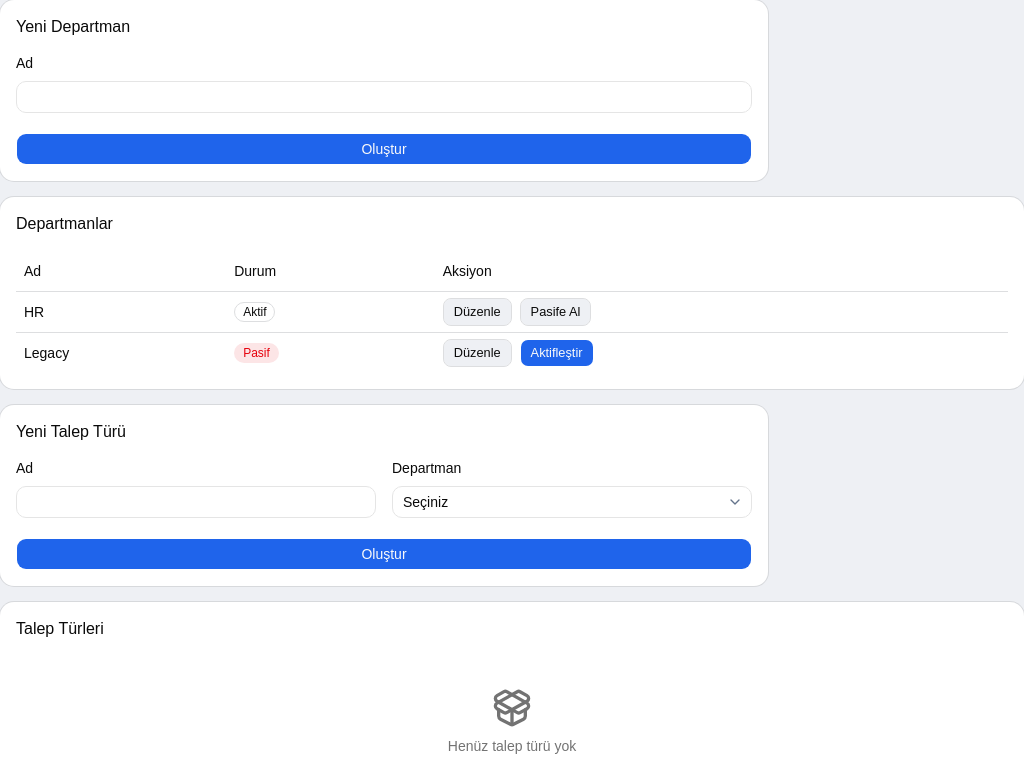
Test: AdminCatalog page › creates a request type via the form and shows it in the table after refetch
Check: the cell "HR" is shown, box [16,291,226,332]
Type "Yeni Tür" into the field labelled "Ad" below "Yeni Talep Türü" at (196, 502), box [16,486,376,518]
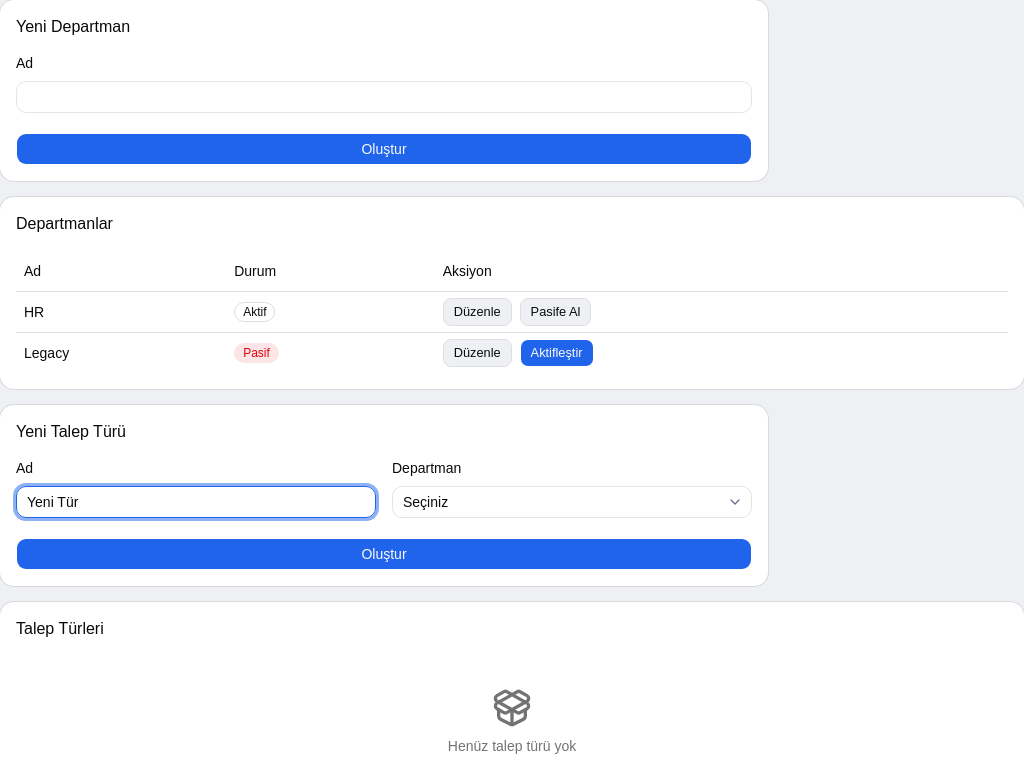
Select "HR" in the dropdown labelled "Departman" at (572, 502), box [392,486,752,518]
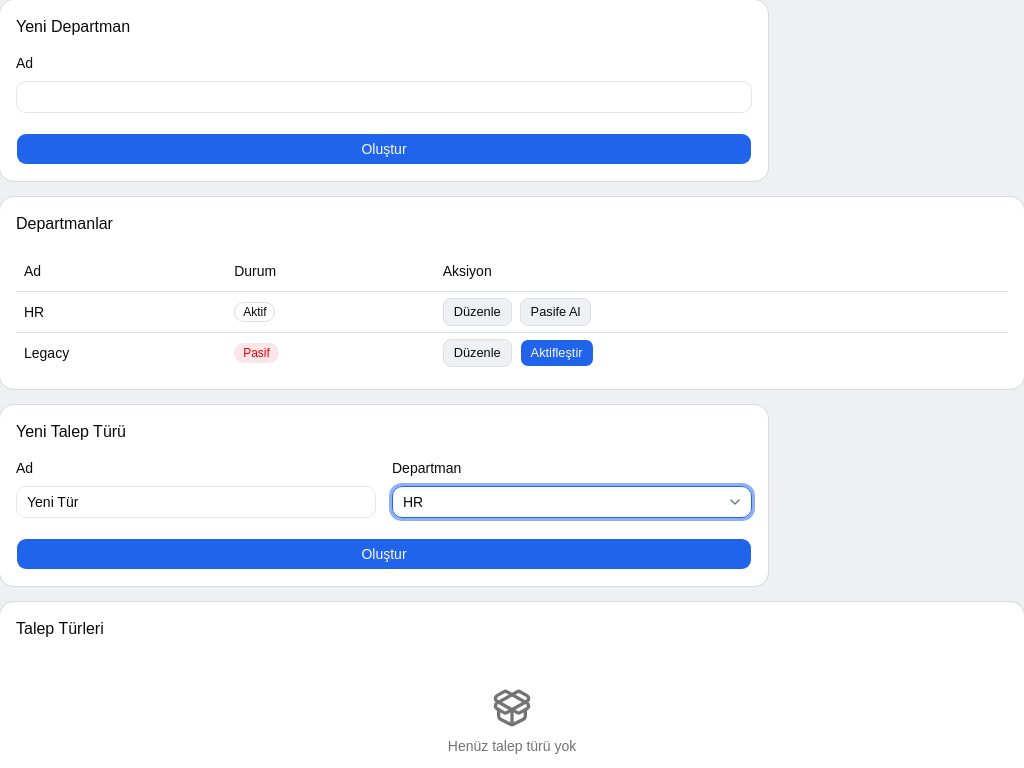
Click the button "Oluştur" below "Yeni Talep Türü" at (384, 554), box [16,538,752,570]
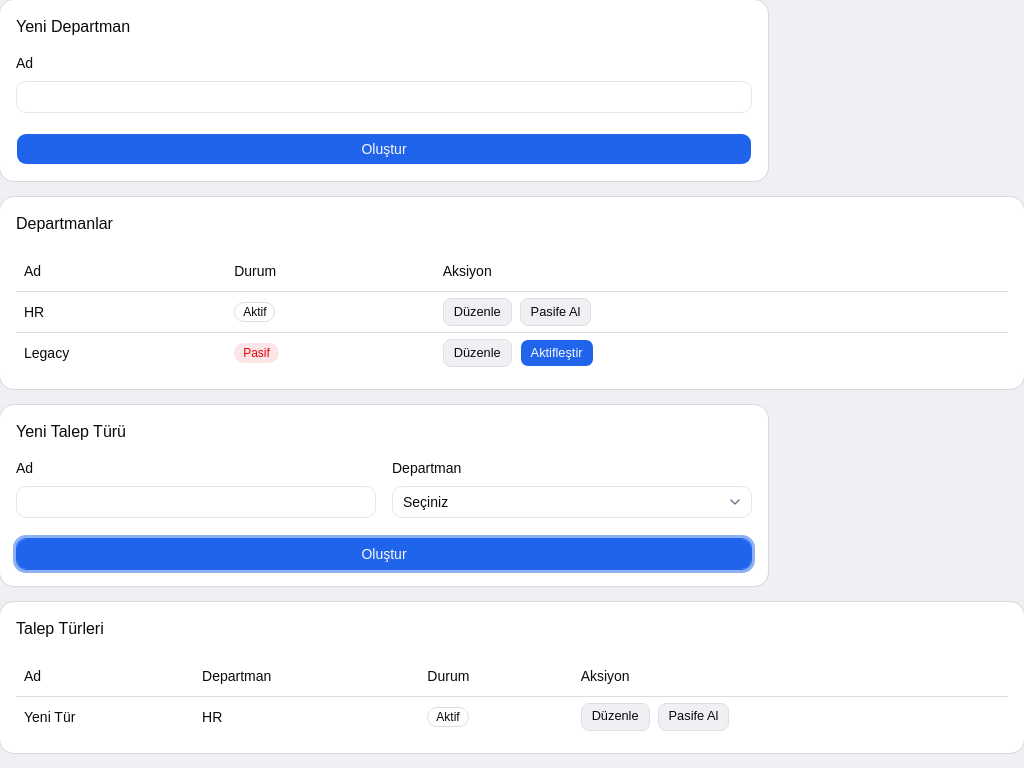
Check: the text "Yeni Tür" is shown, box [16,696,194,736]
